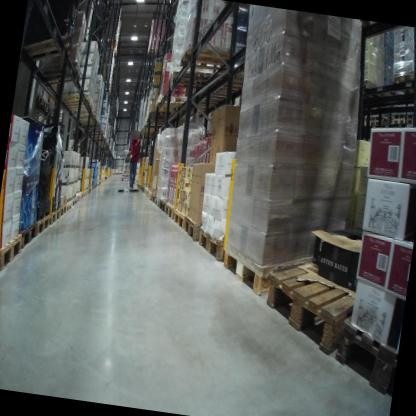pallet: (256, 248, 388, 365), (31, 58, 84, 216), (328, 306, 403, 399), (219, 237, 323, 304), (24, 19, 77, 72), (179, 39, 237, 73), (196, 223, 240, 265), (163, 61, 216, 95), (0, 227, 25, 279), (182, 211, 220, 244), (57, 88, 92, 112), (152, 92, 190, 114), (390, 66, 416, 98), (358, 75, 386, 102), (29, 94, 51, 125), (17, 220, 37, 253), (67, 94, 95, 116), (34, 212, 51, 240), (172, 208, 189, 231), (162, 201, 177, 223), (28, 89, 43, 110), (157, 194, 171, 216), (46, 206, 61, 225), (367, 118, 388, 131), (390, 117, 408, 132), (402, 113, 416, 128), (58, 200, 67, 219), (145, 48, 162, 58), (359, 118, 371, 131), (149, 190, 158, 205), (154, 194, 161, 206)
